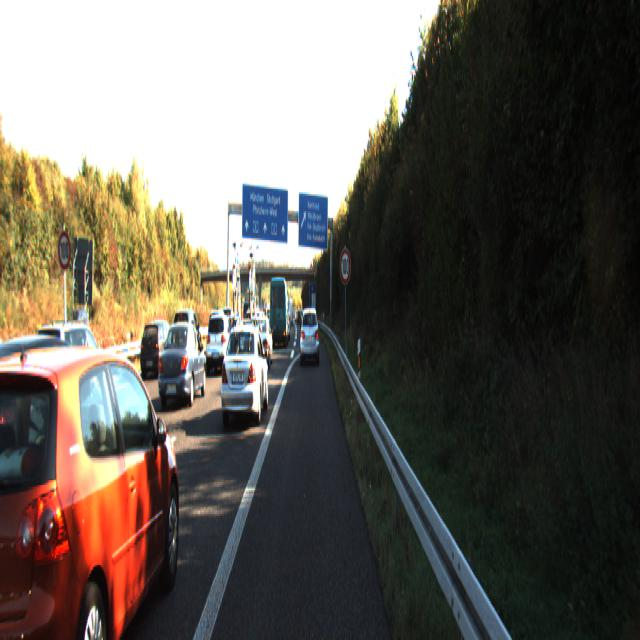Car: (0, 332, 185, 638), (0, 324, 111, 542), (30, 319, 116, 432), (0, 322, 42, 471), (218, 322, 269, 431), (155, 318, 207, 411), (140, 317, 179, 377), (202, 312, 234, 374), (248, 314, 274, 370), (269, 274, 288, 346), (300, 304, 319, 363)
